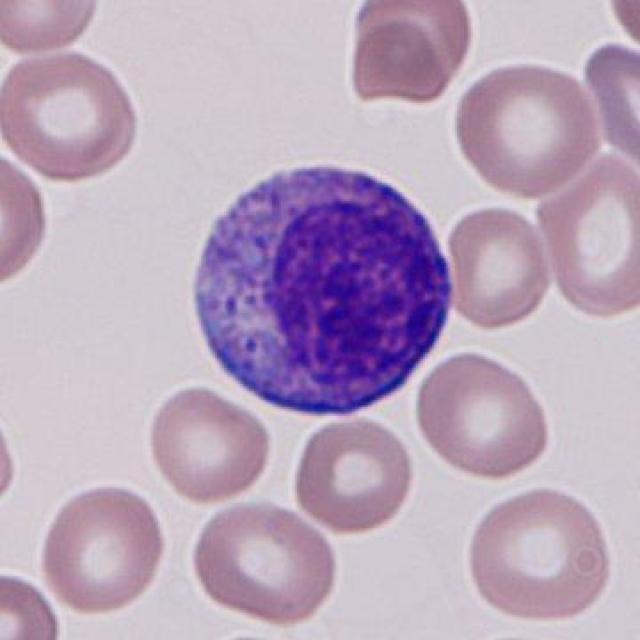RBC: (460, 482, 620, 626), (450, 57, 604, 199), (187, 496, 345, 631), (412, 346, 554, 484), (0, 42, 142, 178), (35, 478, 169, 619), (535, 149, 640, 322), (288, 411, 420, 537), (144, 381, 274, 506), (443, 201, 553, 331), (345, 0, 476, 105), (579, 35, 640, 174), (0, 144, 52, 292), (0, 0, 103, 57), (0, 569, 64, 640), (0, 377, 23, 542), (602, 0, 640, 55)
